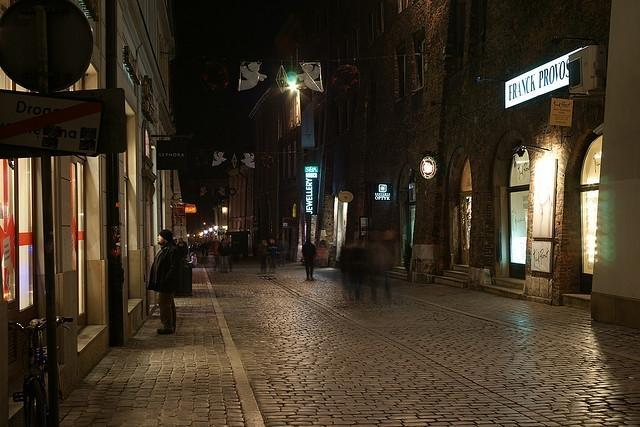bicycle: (8, 316, 72, 426)
